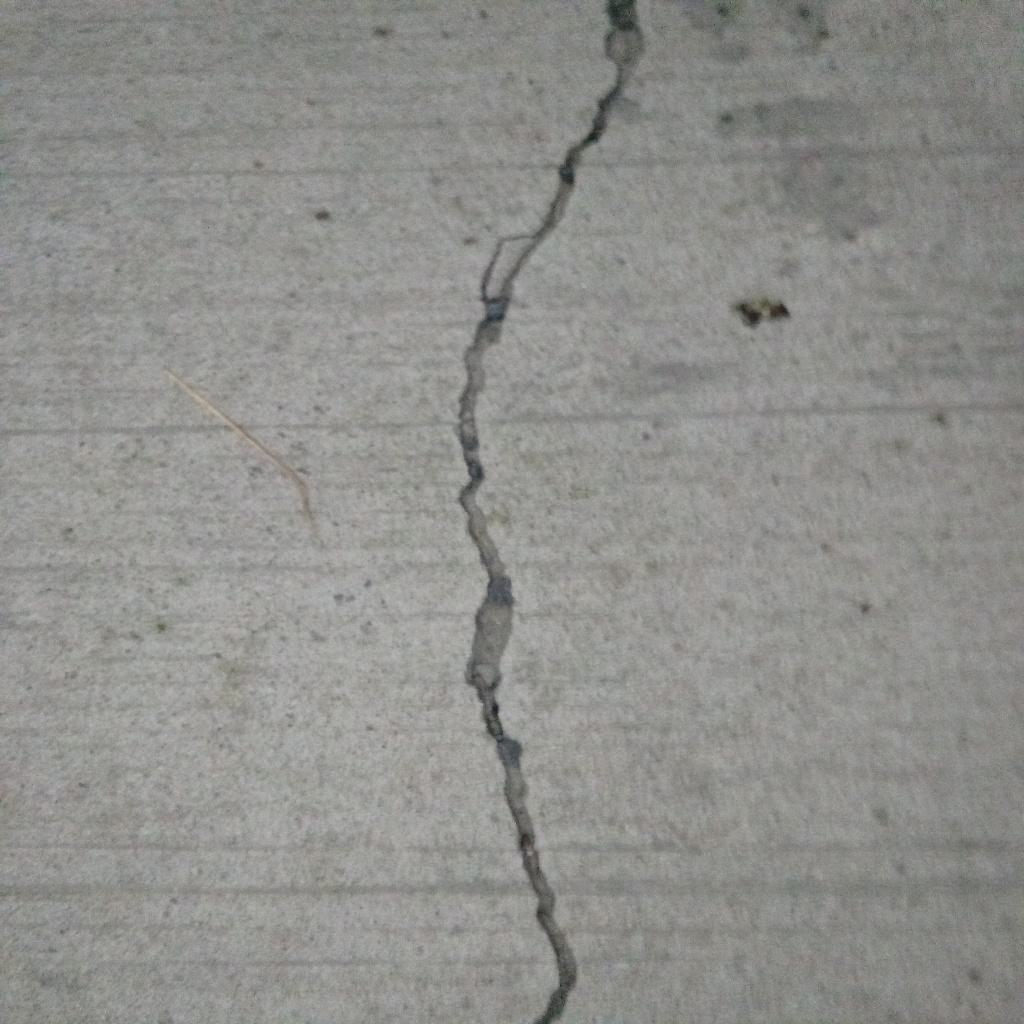Crack: (456, 1, 645, 1024)
